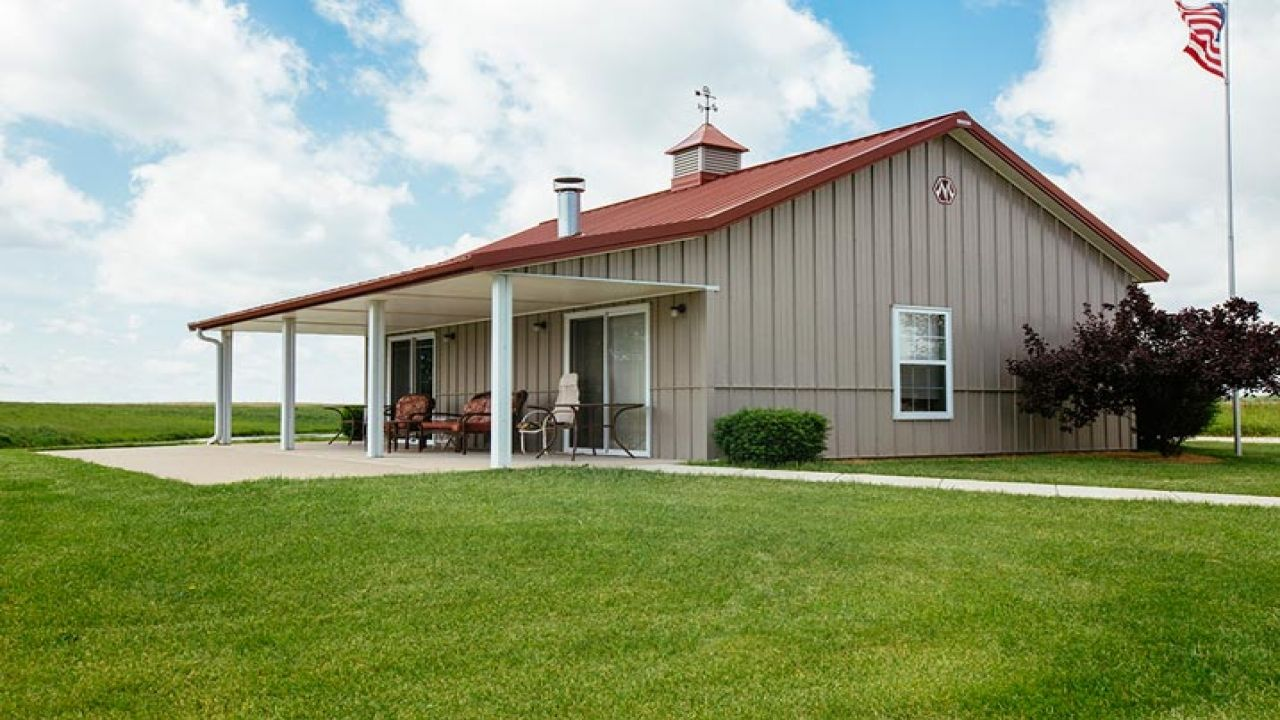Tin-shade House: (196, 110, 1160, 465)
